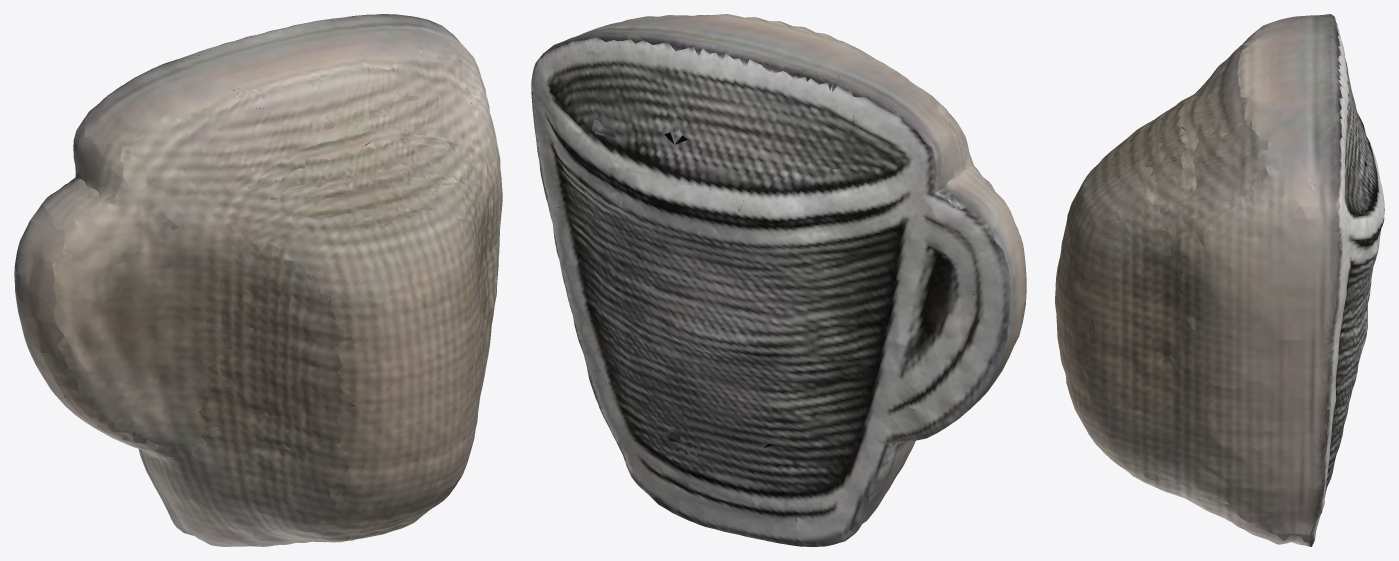
File: demo-cup.glb
3 renders of one model, left to right at view 1: azimuth 30°, elevation 25°; view 2: azimuth 150°, elevation 25°; view 3: azimuth 270°, elevation 25°, orthographic. The views are drawn at different scales.
Visible parts, largest first — view 1: world; view 2: world; view 3: world.
Part boxes in pixels (x1=…): world: x1=14, y1=14, x2=502, y2=546; world: x1=531, y1=14, x2=1026, y2=546; world: x1=1055, y1=14, x2=1384, y2=546.
Size of the model in its own units: 0.8638 by 0.8723 by 0.5769.
1 material, 1 textured.
